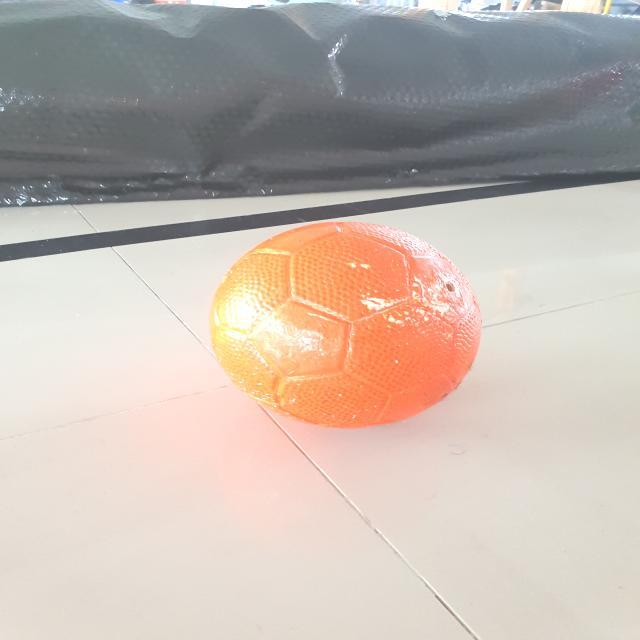bola: (209, 212, 498, 440)
